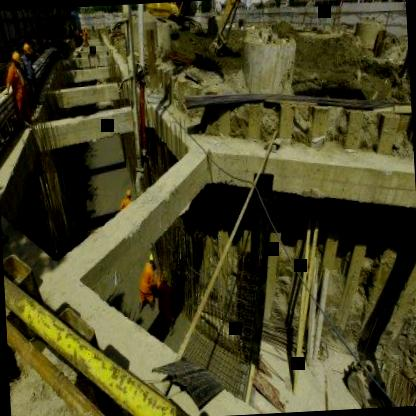helmet: (7, 46, 22, 66), (20, 40, 33, 61)
